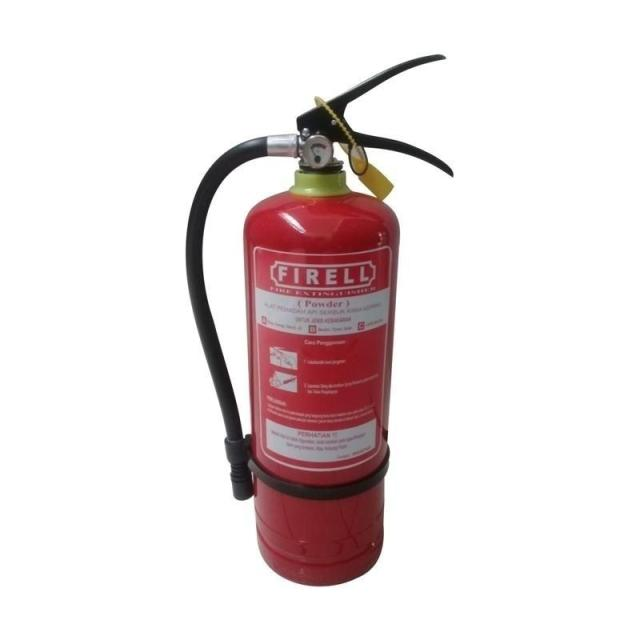fire_extinguisher: (181, 49, 457, 592)
